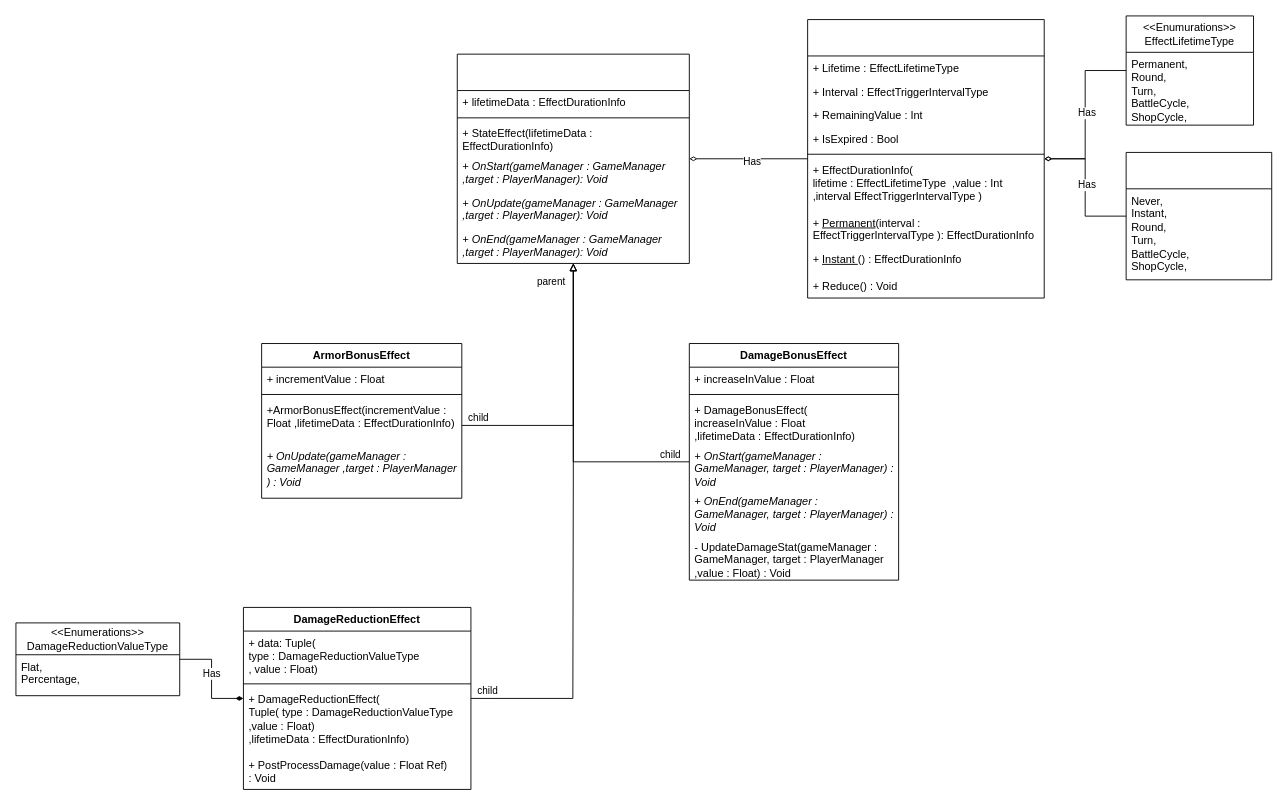
The diagram is 1288 pixels wide and 808 high, and some of its shapes have lost their labels. Each missing label, with the box of its shape:
<<Abstract>> StateEffect: (456, 53, 689, 263)
<<Enumurations>> EffectTriggerIntervalType: (1125, 152, 1272, 280)
<<Struct>> EffectDurationInfo: (807, 19, 1044, 298)
